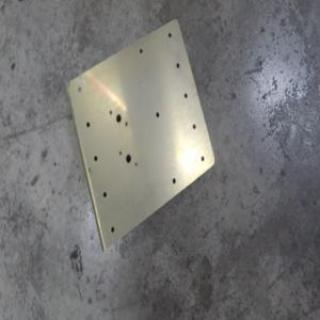MetalSheettrack_idkeyframe: (64, 14, 216, 253)
